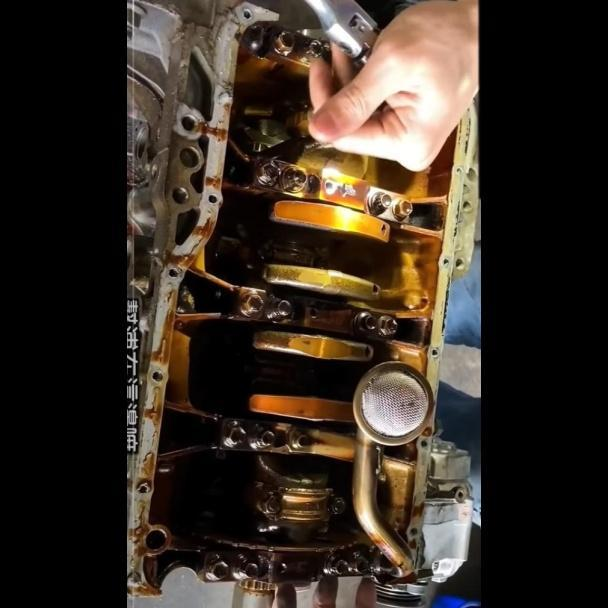hole: (454, 488, 468, 501), (151, 369, 164, 381), (136, 481, 148, 494), (240, 9, 252, 20), (207, 193, 217, 205), (431, 347, 440, 359), (168, 267, 178, 277), (409, 526, 419, 536), (455, 167, 463, 176), (442, 257, 449, 266), (420, 441, 428, 448)
